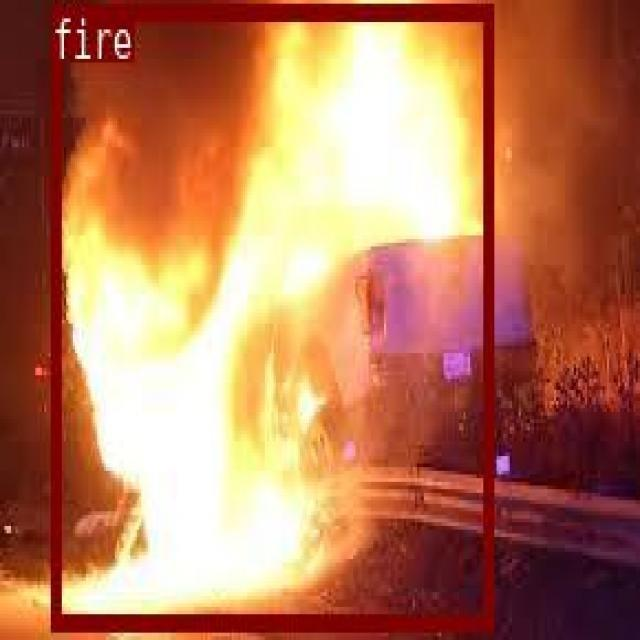fire: (49, 0, 490, 629)
